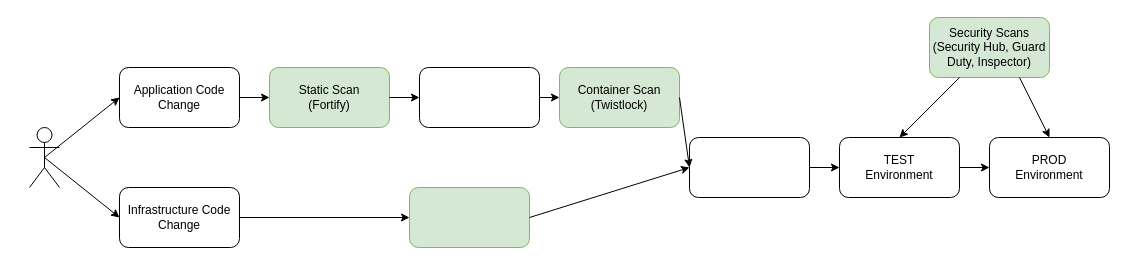
Image size: 1127x265. Some labels were removed from this diagram. Here are the shapes that lost their labels. From the top down, the centre of each, then its label:
pixel 479 97: Build
pixel 44 157: Developer
pixel 749 167: Packages and Infrastructure Scripts (Artifactory)
pixel 469 217: Static Scan (Checkov)
